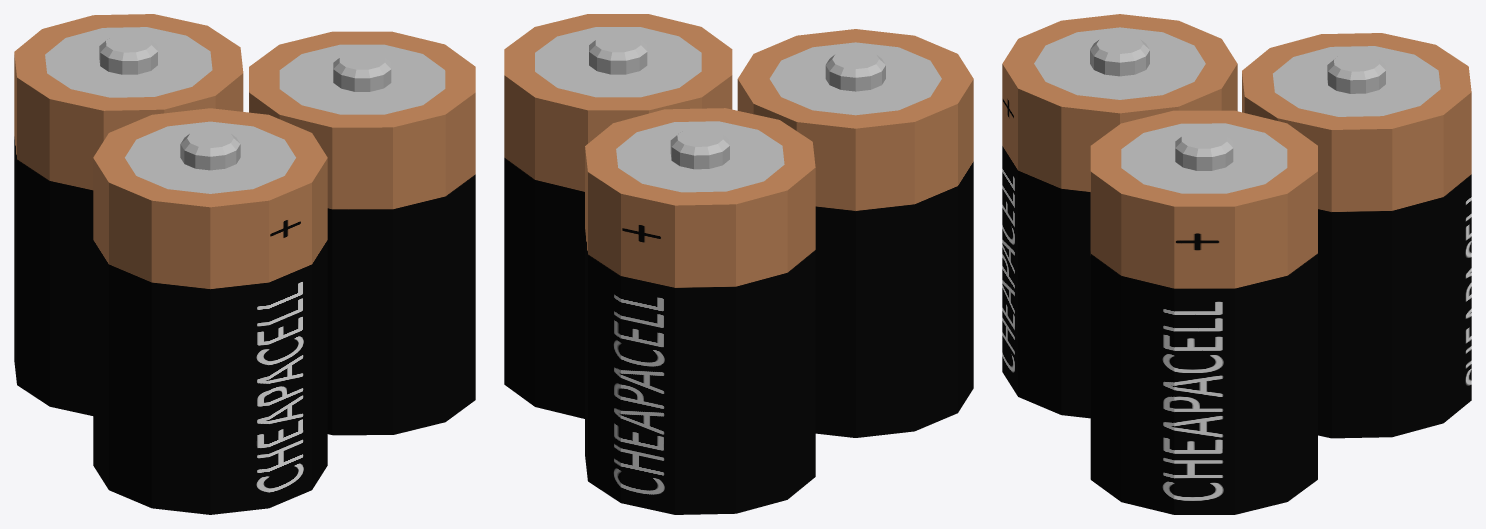
The model's file is Batteries 1.fbx.
3 renders of one model, left to right at view 1: azimuth 30°, elevation 25°; view 2: azimuth 150°, elevation 25°; view 3: azimuth 270°, elevation 25°, orthographic.
Parts seen in each view (by area): view 1: Cylinder; view 2: Cylinder; view 3: Cylinder.
Part boxes in pixels (bbox=[...]): Cylinder: bbox=[14, 14, 475, 514]; Cylinder: bbox=[504, 14, 973, 514]; Cylinder: bbox=[1002, 14, 1471, 514].
Bounding box in the file's own units: 0.3541 × 0.2811 × 0.3646.
